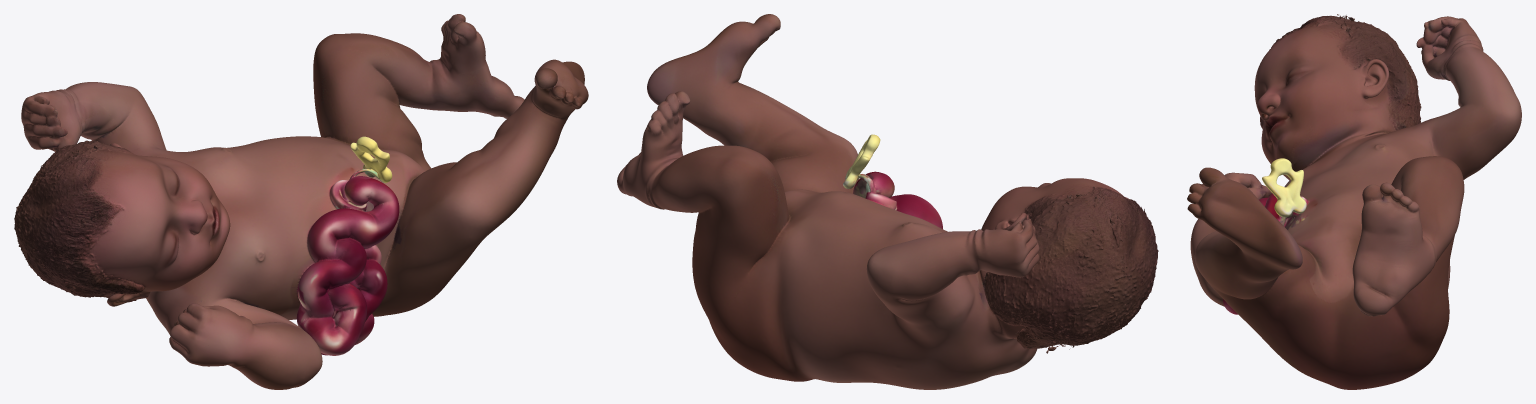
The model's file is GASTROSQUISIS-v1.glb.
3 views of the same model, side by side, from view 1: azimuth 30°, elevation 25°; view 2: azimuth 150°, elevation 25°; view 3: azimuth 270°, elevation 25° (orthographic). The views are drawn at different scales.
Size of the model in its own units: 1.9 by 0.9373 by 1.09.
1 material, 1 textured.
